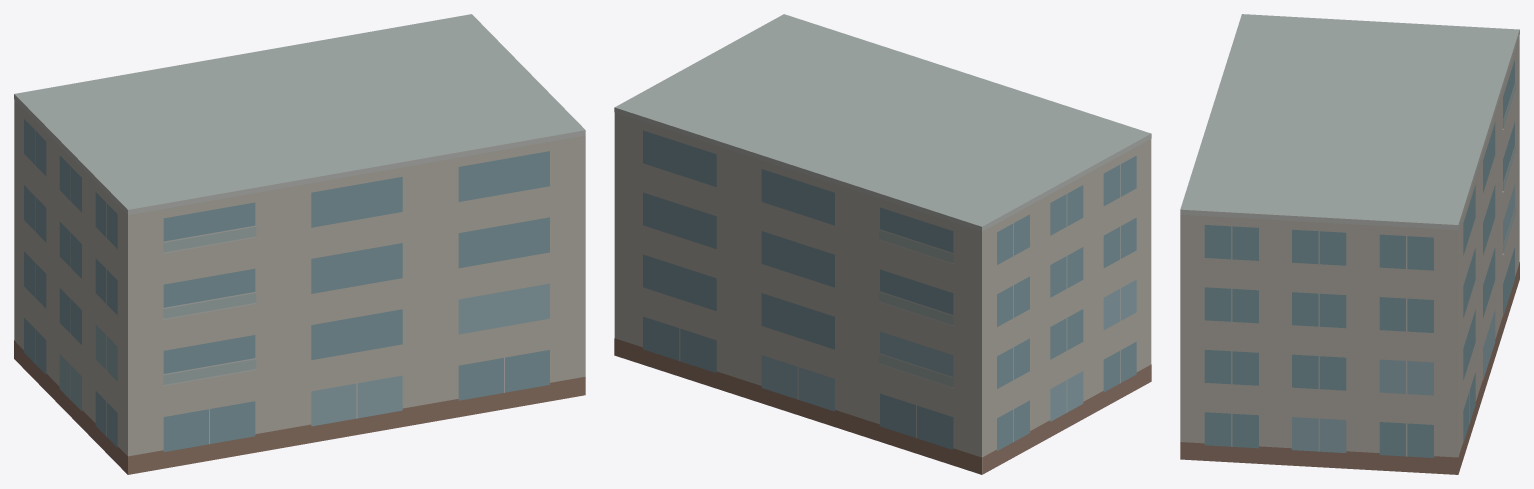
The model's file is survey-upis-32835021.glb.
The picture shows the model from 3 angles, left to right: view 1: azimuth 30°, elevation 25°; view 2: azimuth 150°, elevation 25°; view 3: azimuth 270°, elevation 25°; orthographic projection. The views are drawn at different scales.
Parts seen in each view (by area): view 1: survey-upis-32835021.tmp; view 2: survey-upis-32835021.tmp; view 3: survey-upis-32835021.tmp.
Boxes of the visible parts, x1,y1,x2,y2 form: survey-upis-32835021.tmp: (14,14,585,474); survey-upis-32835021.tmp: (614,14,1151,474); survey-upis-32835021.tmp: (1180,14,1519,474).
Bounding box in the file's own units: 22.11 × 12.2 × 15.04.
